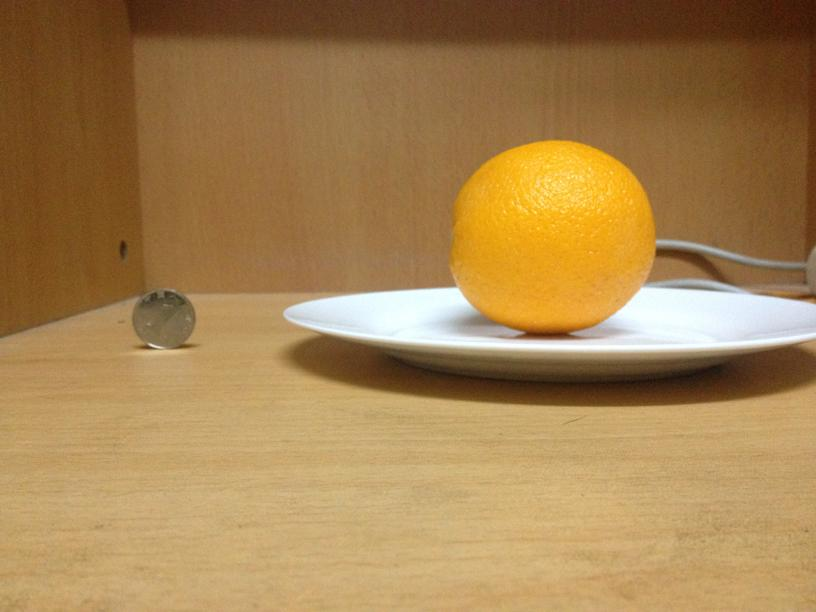coin: (130, 289, 194, 349)
orange: (445, 141, 655, 328)
